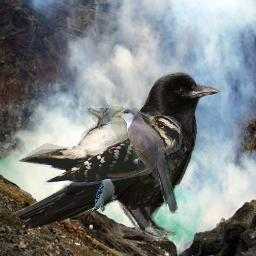Crow: (13, 71, 221, 241)
Cuckoo: (111, 106, 180, 216)
Woodpecker: (17, 108, 191, 190), (91, 169, 117, 213)
